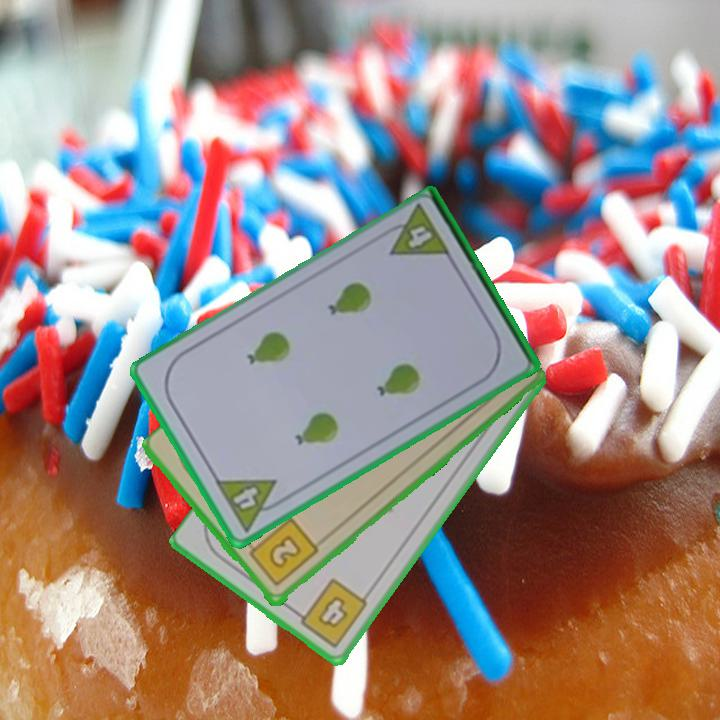2b: (243, 515, 321, 590)
4b: (290, 574, 371, 651)
4p: (212, 475, 290, 535), (377, 202, 454, 261)
